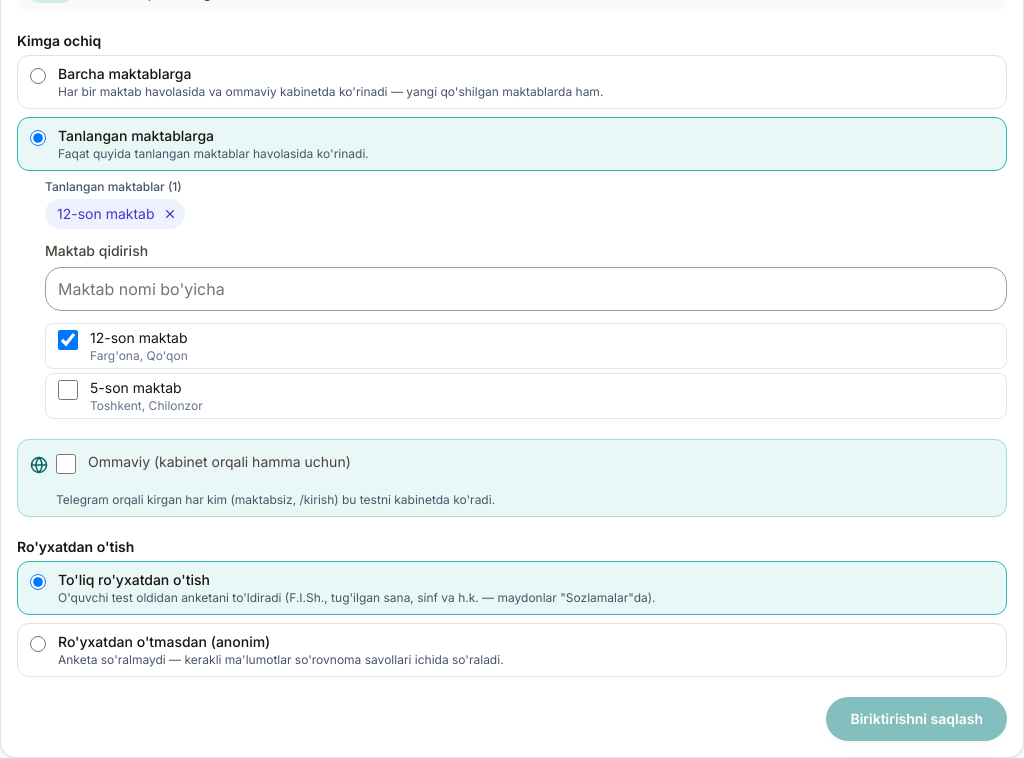
Test: TestAssignmentCard › REGISTRATION_REQUIRED_FOR_BATTERY va noma'lum maktab (404) xabarlari
The width and height of the screenshot is (1024, 758).
(page scrolled)
Click the radio button labelled "Ro'yxatdan o'tmasdan (anonim)" at (38, 644), box [30,636,46,652]
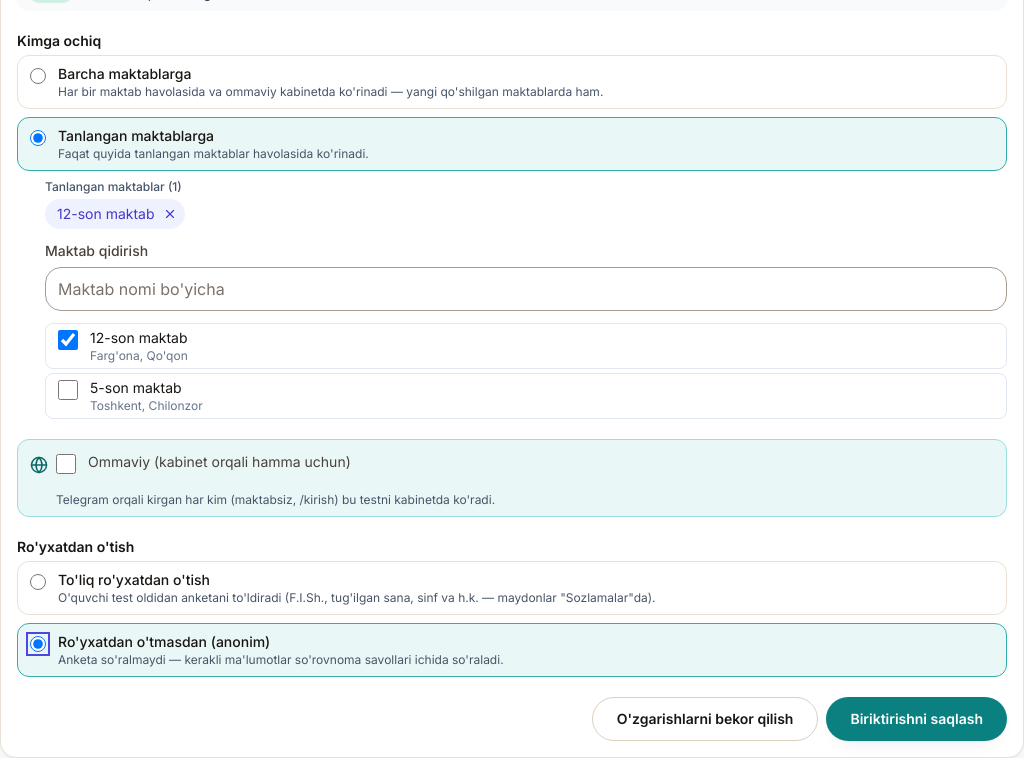
Click the button "Biriktirishni saqlash" at (917, 719), box [826,697,1007,741]
(page scrolled)
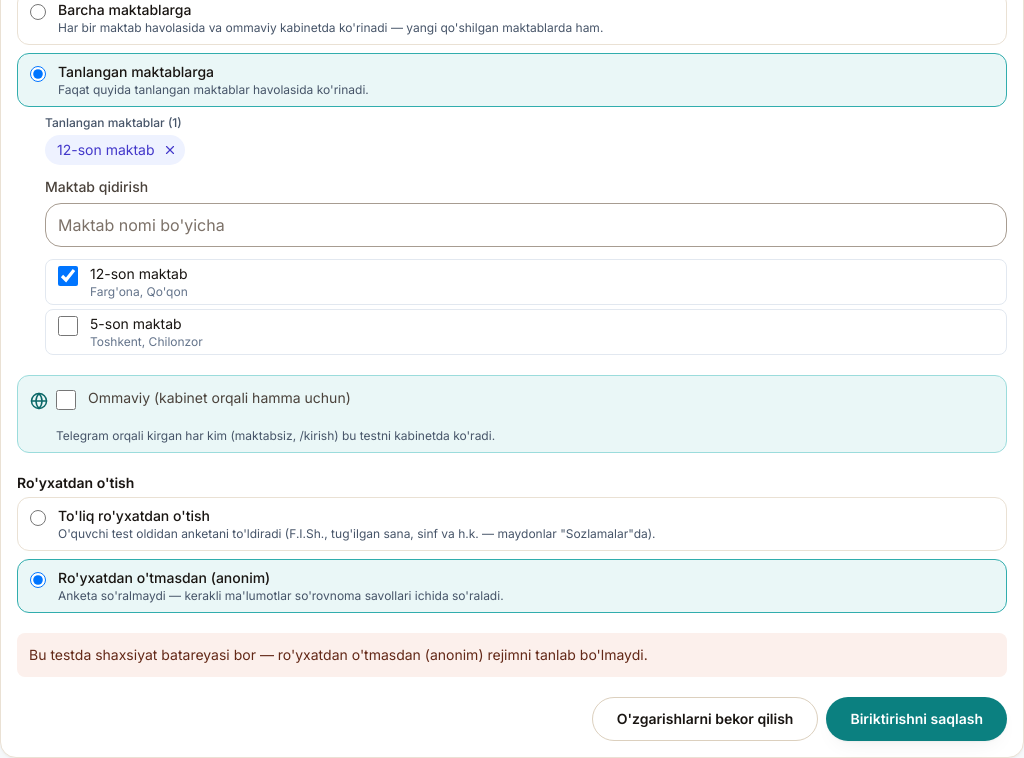
Expected: the message with test id "assignment-error" shows "anonim) rejimni tanlab bo'lmaydi", [29,646,648,663]
Click the button "Biriktirishni saqlash" at (917, 719), box [826,697,1007,741]
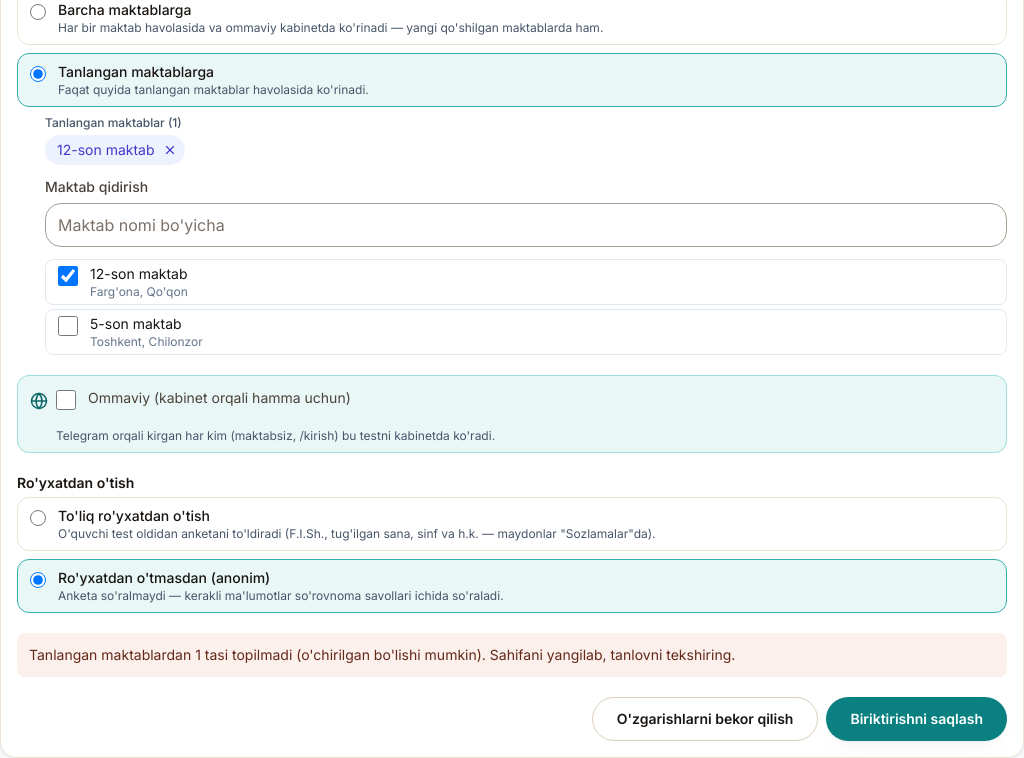
Expected: the message with test id "assignment-error" shows "1 tasi topilmadi", [29,646,735,663]
